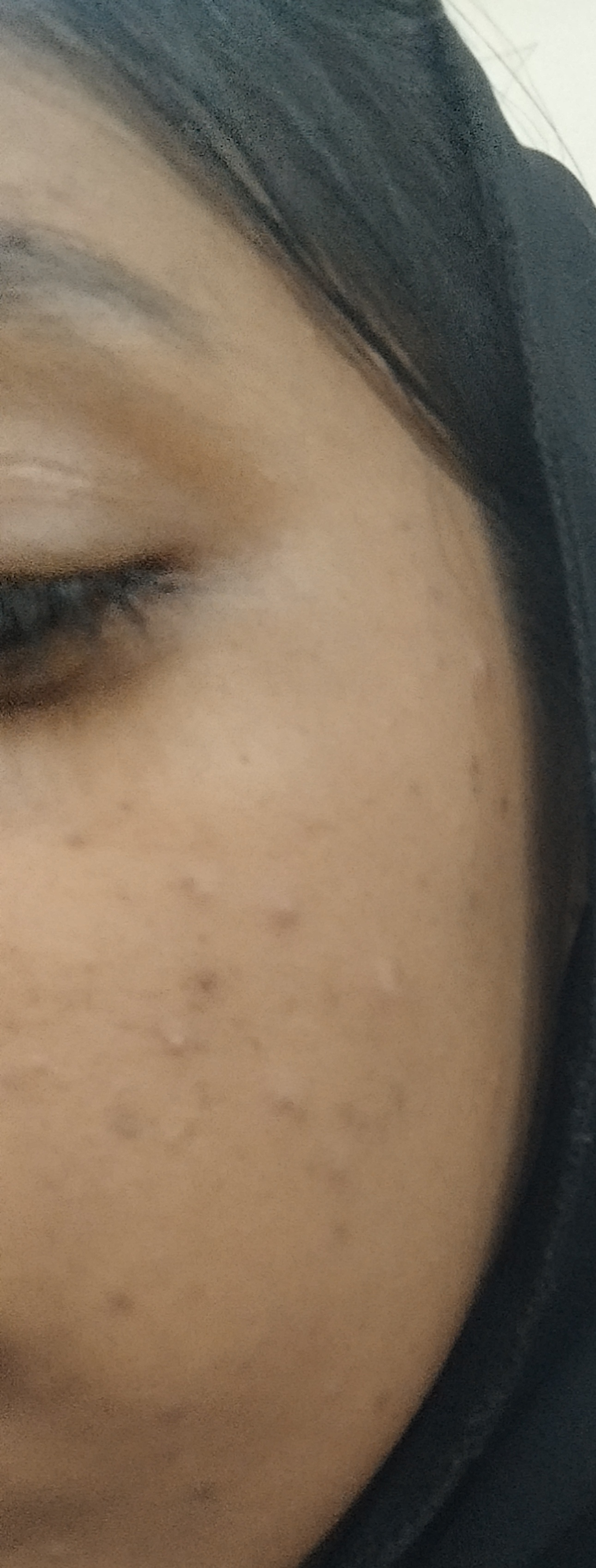closed_comedone: (349, 947, 423, 1030), (160, 846, 222, 929), (305, 1126, 385, 1190), (258, 1056, 328, 1120), (147, 1012, 204, 1079), (263, 885, 310, 952)
